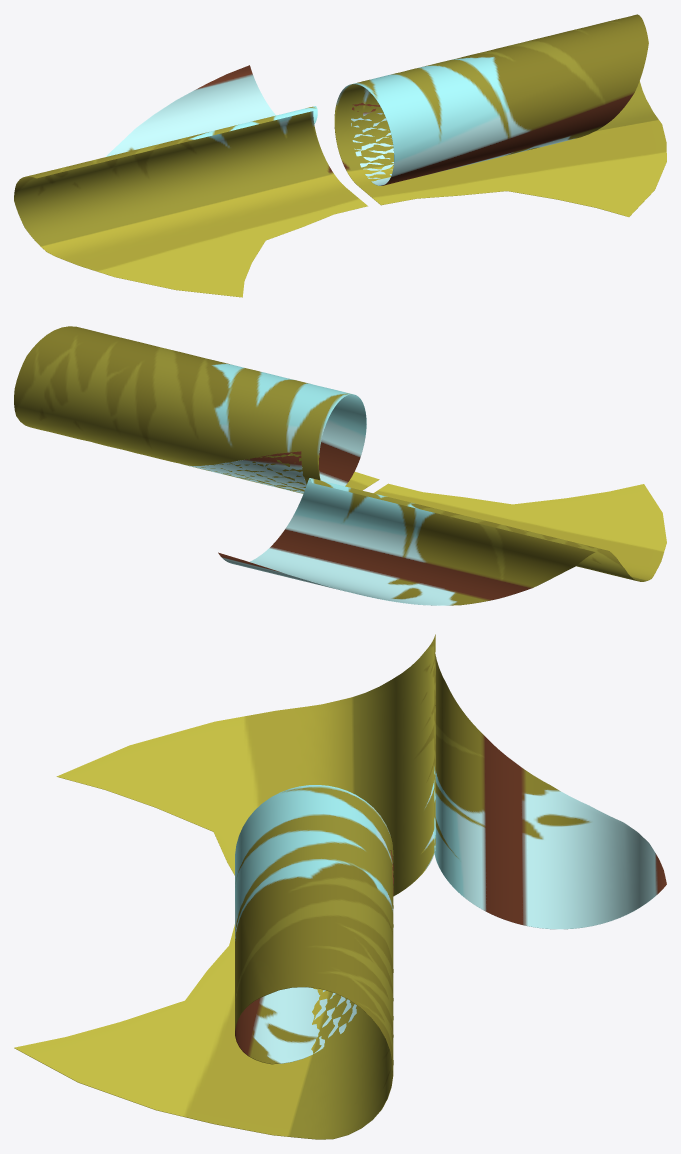
The model's file is Level 117.fbx.
3 views of the same model, one above another, from view 1: azimuth 30°, elevation 25°; view 2: azimuth 150°, elevation 25°; view 3: azimuth 270°, elevation 25° (orthographic). The views are drawn at different scales.
Visible parts, largest first — view 1: right_wing, left_wing; view 2: left_wing, right_wing; view 3: right_wing, left_wing.
Part boxes in pixels (x1,y1,x2,y2): right_wing: [334, 14, 666, 216]; left_wing: [14, 65, 367, 297]; left_wing: [218, 478, 666, 605]; right_wing: [14, 326, 379, 493]; right_wing: [14, 785, 393, 1139]; left_wing: [56, 634, 666, 929].
Size of what is drawn, in the model's own units: 848 by 128 by 527.
